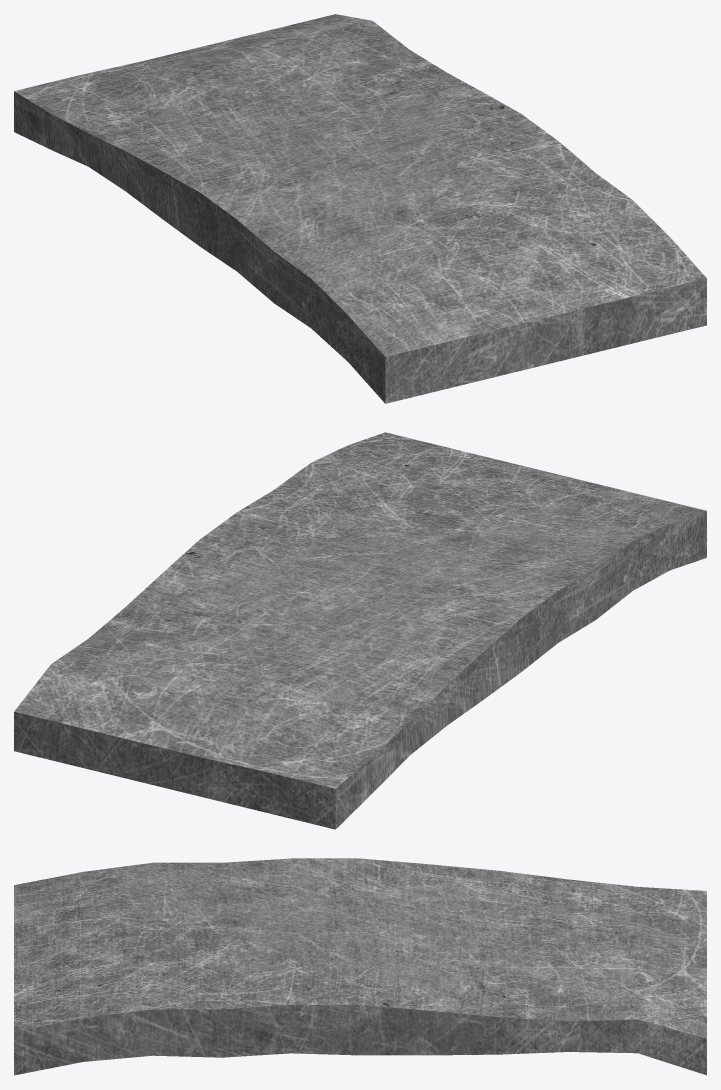
File: BentDoor2.FBX
3 renders of one model, top to bottom at view 1: azimuth 30°, elevation 25°; view 2: azimuth 150°, elevation 25°; view 3: azimuth 270°, elevation 25°, orthographic. The views are drawn at different scales.
Parts seen in each view (by area): view 1: BentDoor2; view 2: BentDoor2; view 3: BentDoor2.
Boxes of the visible parts, x1,y1,x2,y2 form: BentDoor2: (14,14,706,403); BentDoor2: (14,432,706,829); BentDoor2: (14,858,706,1075).
Size of the model in its own units: 50 by 11.24 by 100.
1 material, 1 textured.
